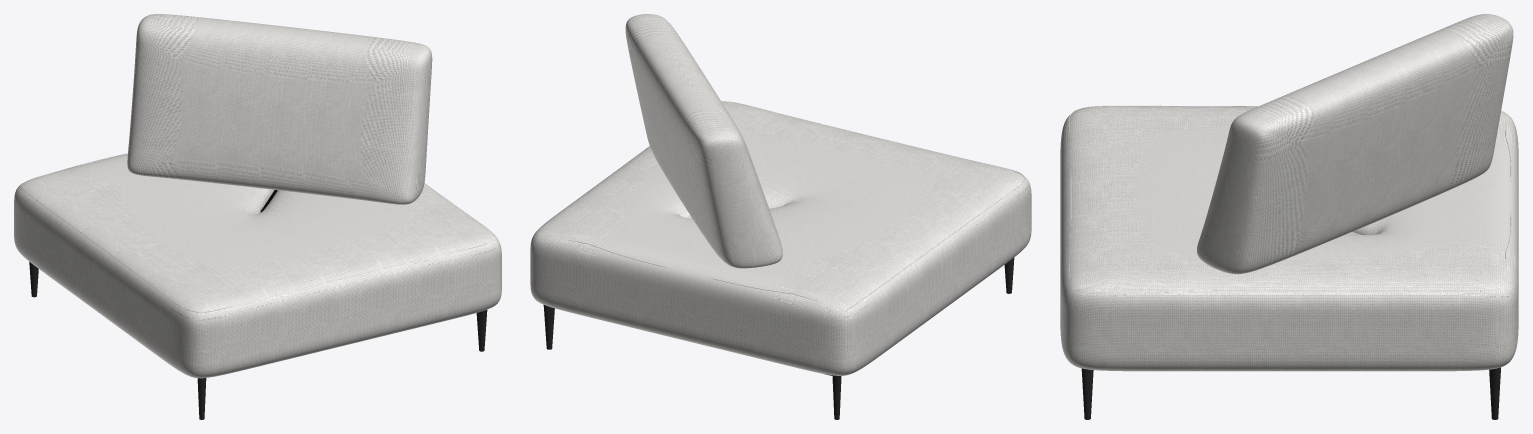
The model's file is corner.glb.
3 renders of one model, left to right at view 1: azimuth 30°, elevation 25°; view 2: azimuth 150°, elevation 25°; view 3: azimuth 270°, elevation 25°, orthographic. The views are drawn at different scales.
Visible parts, largest first — view 1: object 2, costa, D=2,00 mm; view 2: object 2, costa, D=2,00 mm; view 3: object 2, costa, Pé Stiletto (×2), D=2,00 mm.
Boxes of the visible parts, x1,y1,x2,y2 form: object 2: (14,153,501,378); costa: (127,14,432,204); D=2,00 mm: (20,153,489,312); object 2: (530,101,1031,375); costa: (625,14,782,268); D=2,00 mm: (564,102,1024,309); object 2: (1060,106,1518,371); costa: (1196,14,1513,274); Pé Stiletto (×2): (1081,367,1500,419); D=2,00 mm: (1068,105,1511,282).
Size of the model in its own units: 1.12 by 0.8407 by 1.14.
Materials: 3 (1 with a texture image).
